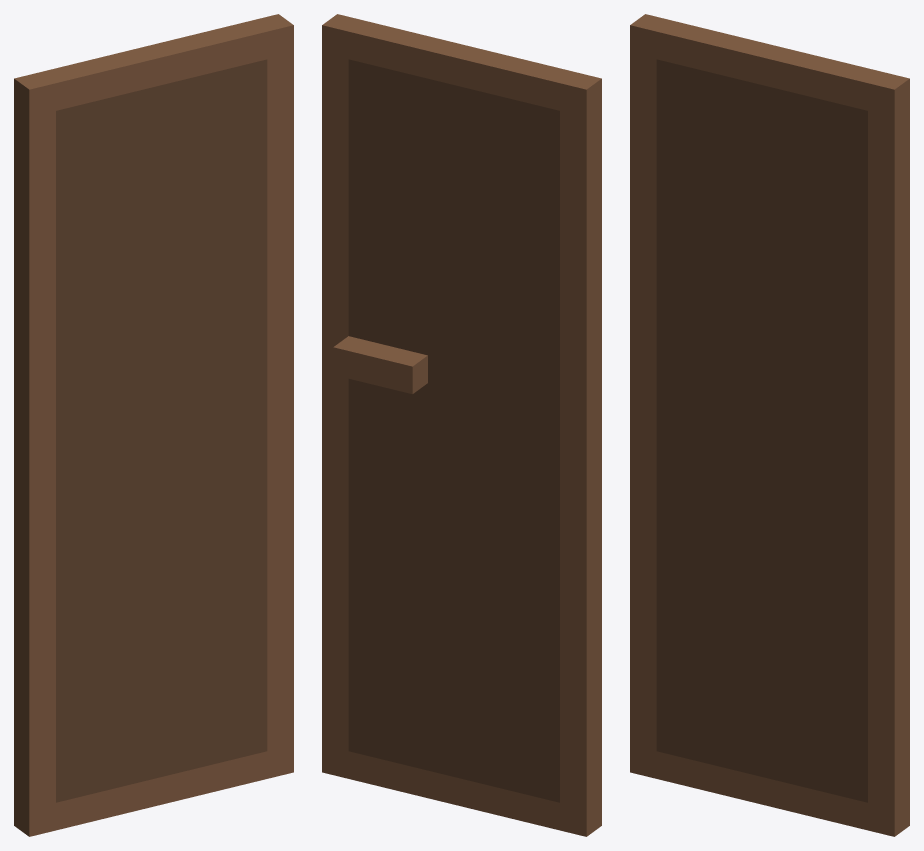
The model's file is armoire-porte2.obj.
The picture shows the model from 3 angles, left to right: view 1: azimuth 30°, elevation 25°; view 2: azimuth 150°, elevation 25°; view 3: azimuth 330°, elevation 25°; orthographic projection.
Bounding box in the file's own units: 1 × 2.7 × 0.2.
Materials: 1 (1 with a texture image).
